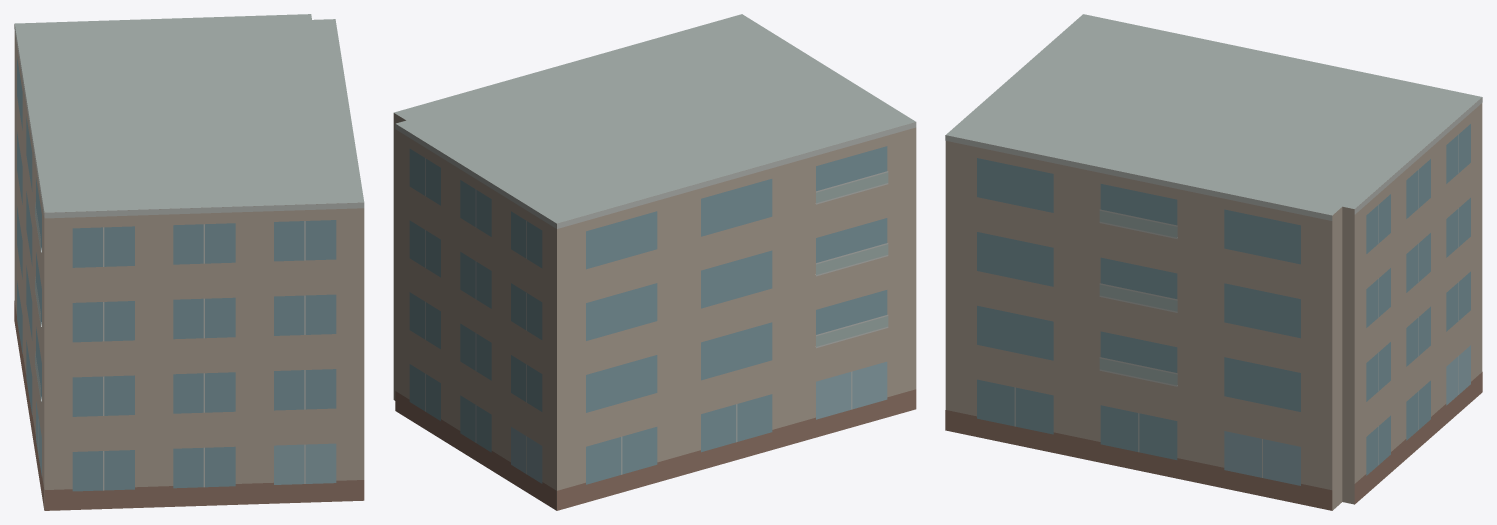
Rendered from survey-upis-32853523.glb.
3 views of the same model, side by side, from view 1: azimuth 30°, elevation 25°; view 2: azimuth 150°, elevation 25°; view 3: azimuth 270°, elevation 25° (orthographic). The views are drawn at different scales.
Visible parts, largest first — view 1: survey-upis-32853523.tmp; view 2: survey-upis-32853523.tmp; view 3: survey-upis-32853523.tmp.
Boxes of the visible parts, x1,y1,x2,y2 form: survey-upis-32853523.tmp: [14, 14, 364, 510]; survey-upis-32853523.tmp: [393, 14, 916, 510]; survey-upis-32853523.tmp: [945, 14, 1482, 510].
Size of the model in its own units: 18.74 by 12.8 by 21.1.
